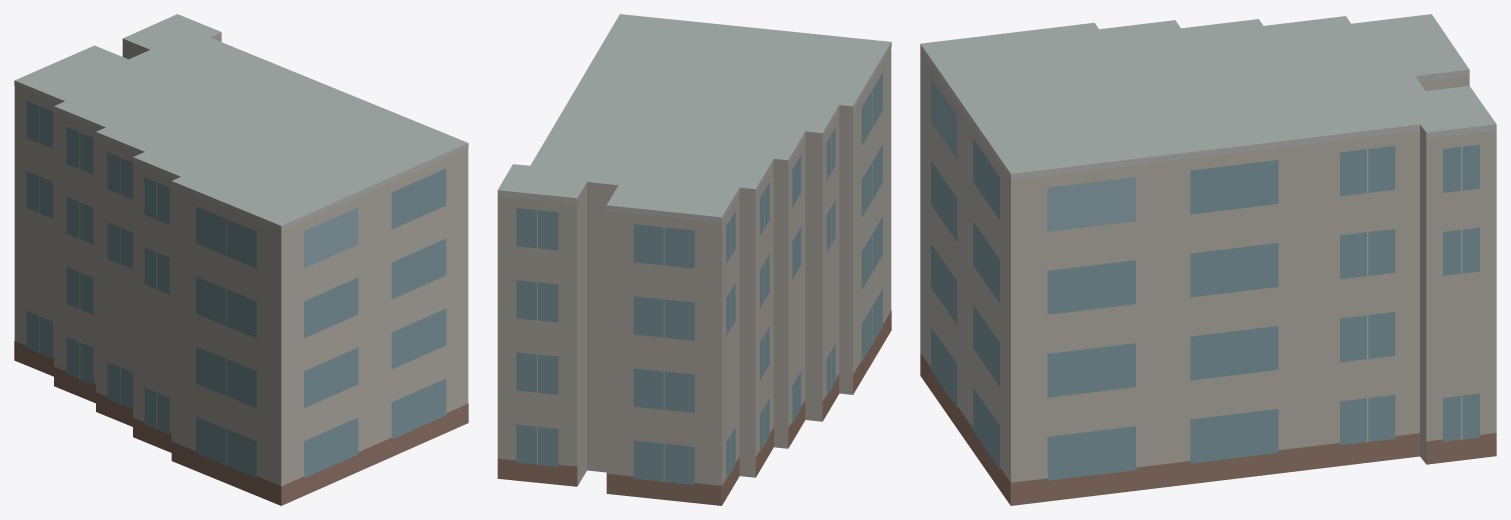
The model's file is survey-upis-32489257.glb.
The picture shows the model from 3 angles, left to right: view 1: azimuth 30°, elevation 25°; view 2: azimuth 150°, elevation 25°; view 3: azimuth 270°, elevation 25°; orthographic projection. The views are drawn at different scales.
Parts seen in each view (by area): view 1: survey-upis-32489257.tmp; view 2: survey-upis-32489257.tmp; view 3: survey-upis-32489257.tmp.
Part boxes in pixels (left/top/right/bottom): survey-upis-32489257.tmp: left=14, top=14, right=468, bottom=505; survey-upis-32489257.tmp: left=497, top=14, right=891, bottom=505; survey-upis-32489257.tmp: left=920, top=14, right=1496, bottom=505.
Bounding box in the file's own units: 13.44 × 13 × 20.46.
